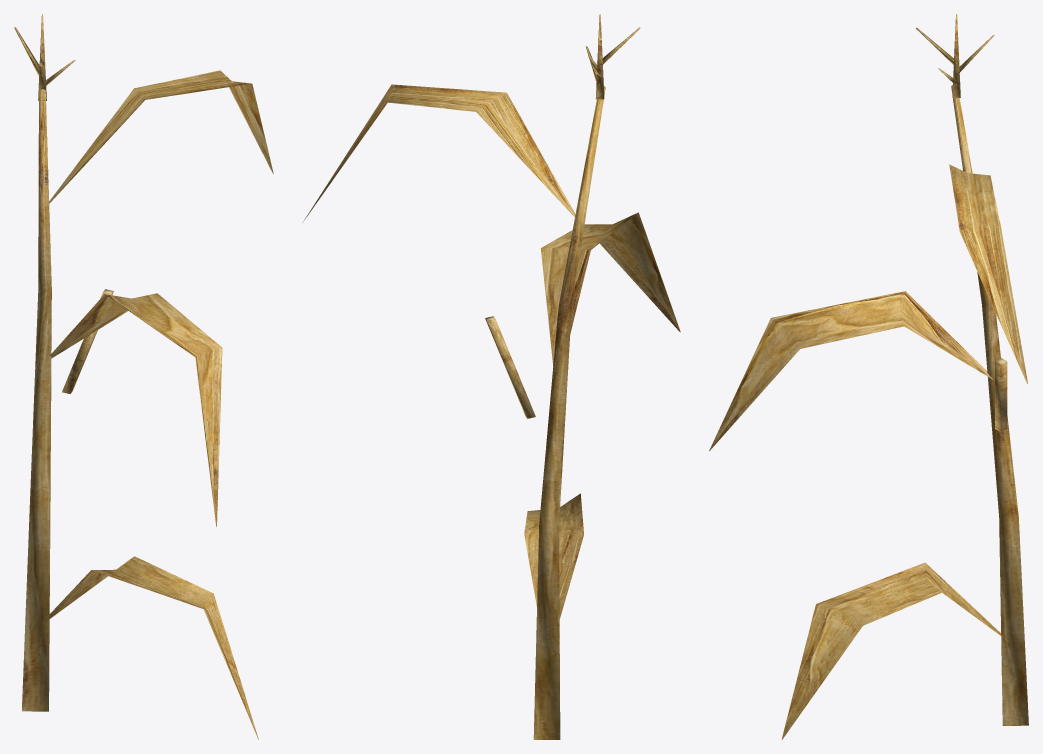
Rendered from Corn_D_Far.glb.
3 views of the same model, side by side, from view 1: azimuth 30°, elevation 25°; view 2: azimuth 150°, elevation 25°; view 3: azimuth 270°, elevation 25° (orthographic). The views are drawn at different scales.
Visible parts, largest first — view 1: Corn_D_Far; view 2: Corn_D_Far; view 3: Corn_D_Far.
Part boxes in pixels (x1,y1,x2,y2): Corn_D_Far: (14, 14, 273, 739); Corn_D_Far: (303, 14, 680, 739); Corn_D_Far: (709, 14, 1028, 739).
Size of the model in its own units: 3.35 by 8 by 3.33.
1 material, 1 textured.
